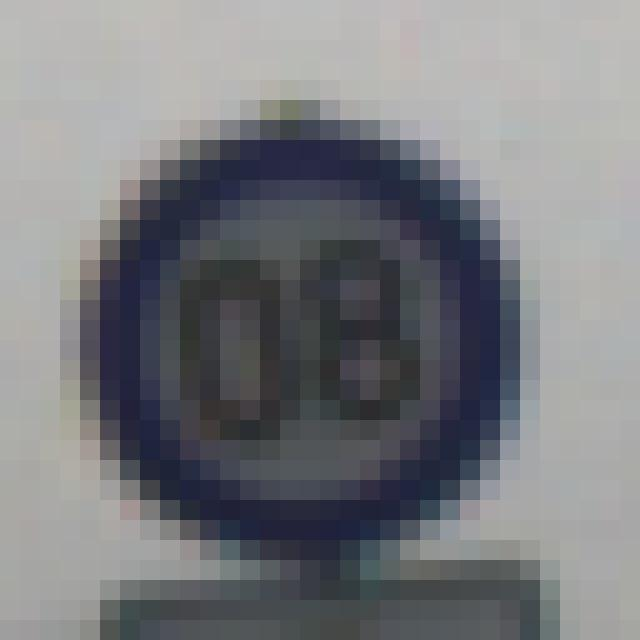SPEED-LIMIT-80: (80, 121, 526, 554)
